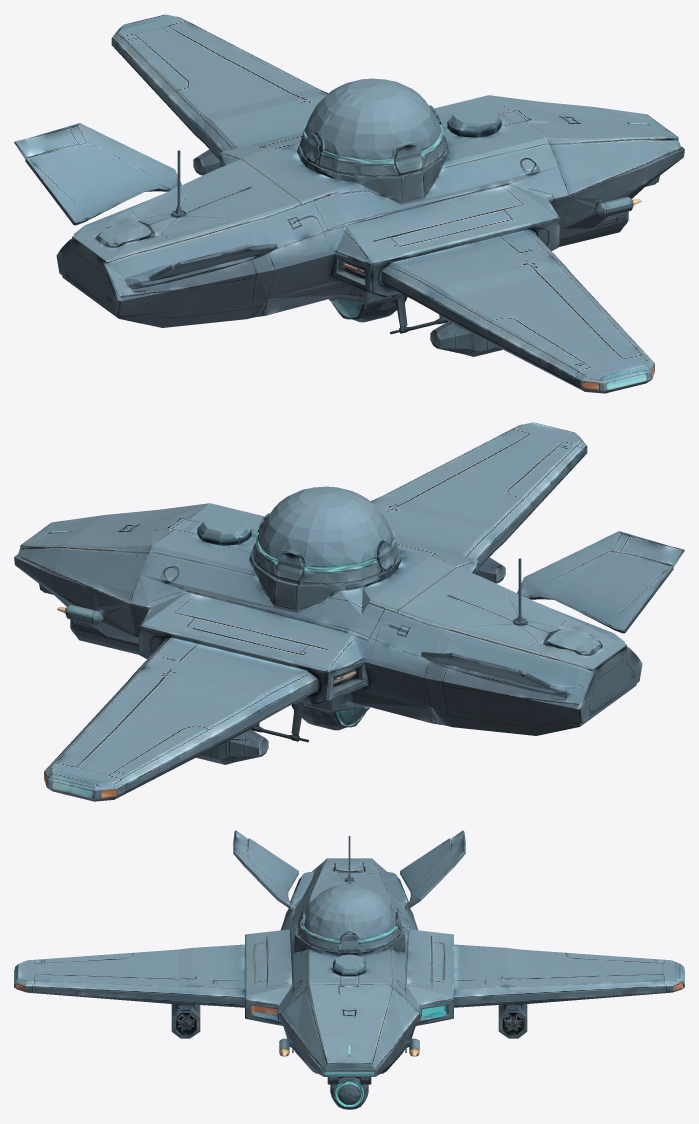
File: overseer_LOD0.glb
The picture shows the model from 3 angles, top to bottom: view 1: azimuth 30°, elevation 25°; view 2: azimuth 150°, elevation 25°; view 3: azimuth 270°, elevation 25°; orthographic projection. The views are drawn at different scales.
Parts seen in each view (by area): view 1: overseer_LOD0; view 2: overseer_LOD0; view 3: overseer_LOD0.
Part boxes in pixels (x1,y1,x2,y2): overseer_LOD0: (14, 14, 684, 393); overseer_LOD0: (14, 422, 684, 801); overseer_LOD0: (14, 830, 684, 1109).
Bounding box in the file's own units: 0.6843 × 0.26 × 0.9991.
Materials: 1 (1 with a texture image).
